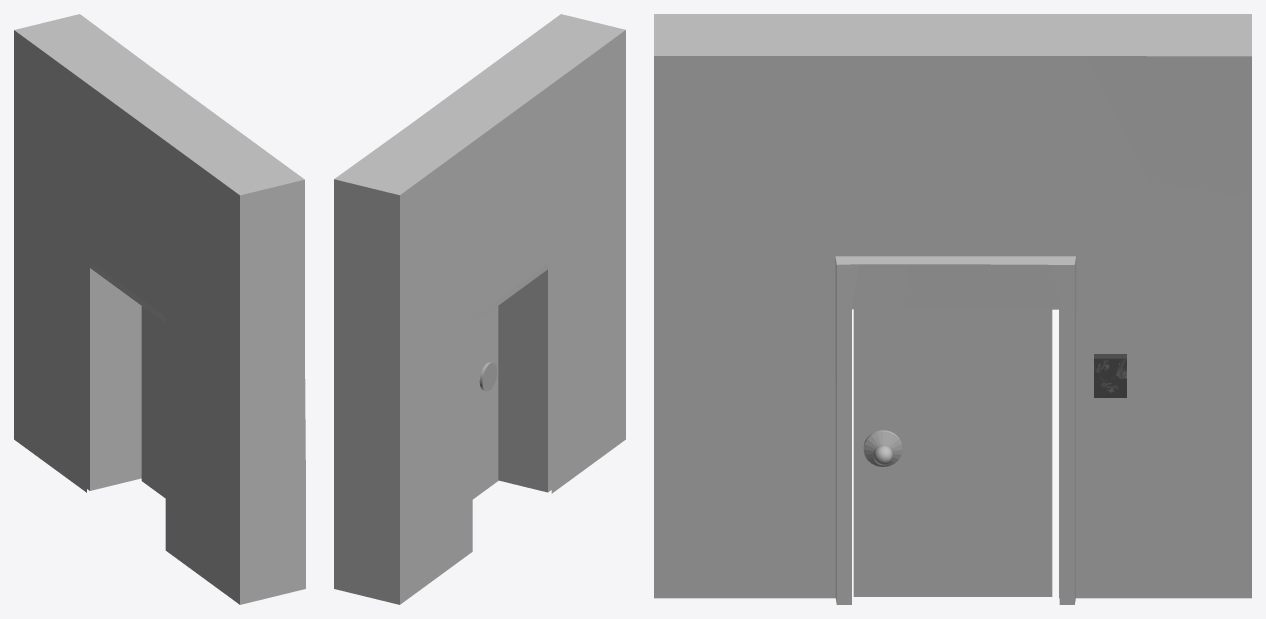
Rendered from DoubleSidedDoor_03.fbx.
The picture shows the model from 3 angles, left to right: view 1: azimuth 30°, elevation 25°; view 2: azimuth 150°, elevation 25°; view 3: azimuth 270°, elevation 25°; orthographic projection. The views are drawn at different scales.
Visible parts, largest first — view 1: DoubleSidedDoor_03; view 2: DoubleSidedDoor_03; view 3: DoubleSidedDoor_03.
Boxes of the visible parts, x1,y1,x2,y2 form: DoubleSidedDoor_03: (14, 14, 305, 604); DoubleSidedDoor_03: (334, 14, 625, 604); DoubleSidedDoor_03: (654, 14, 1251, 604).
Size of the model in its own units: 86.47 by 400 by 400.
